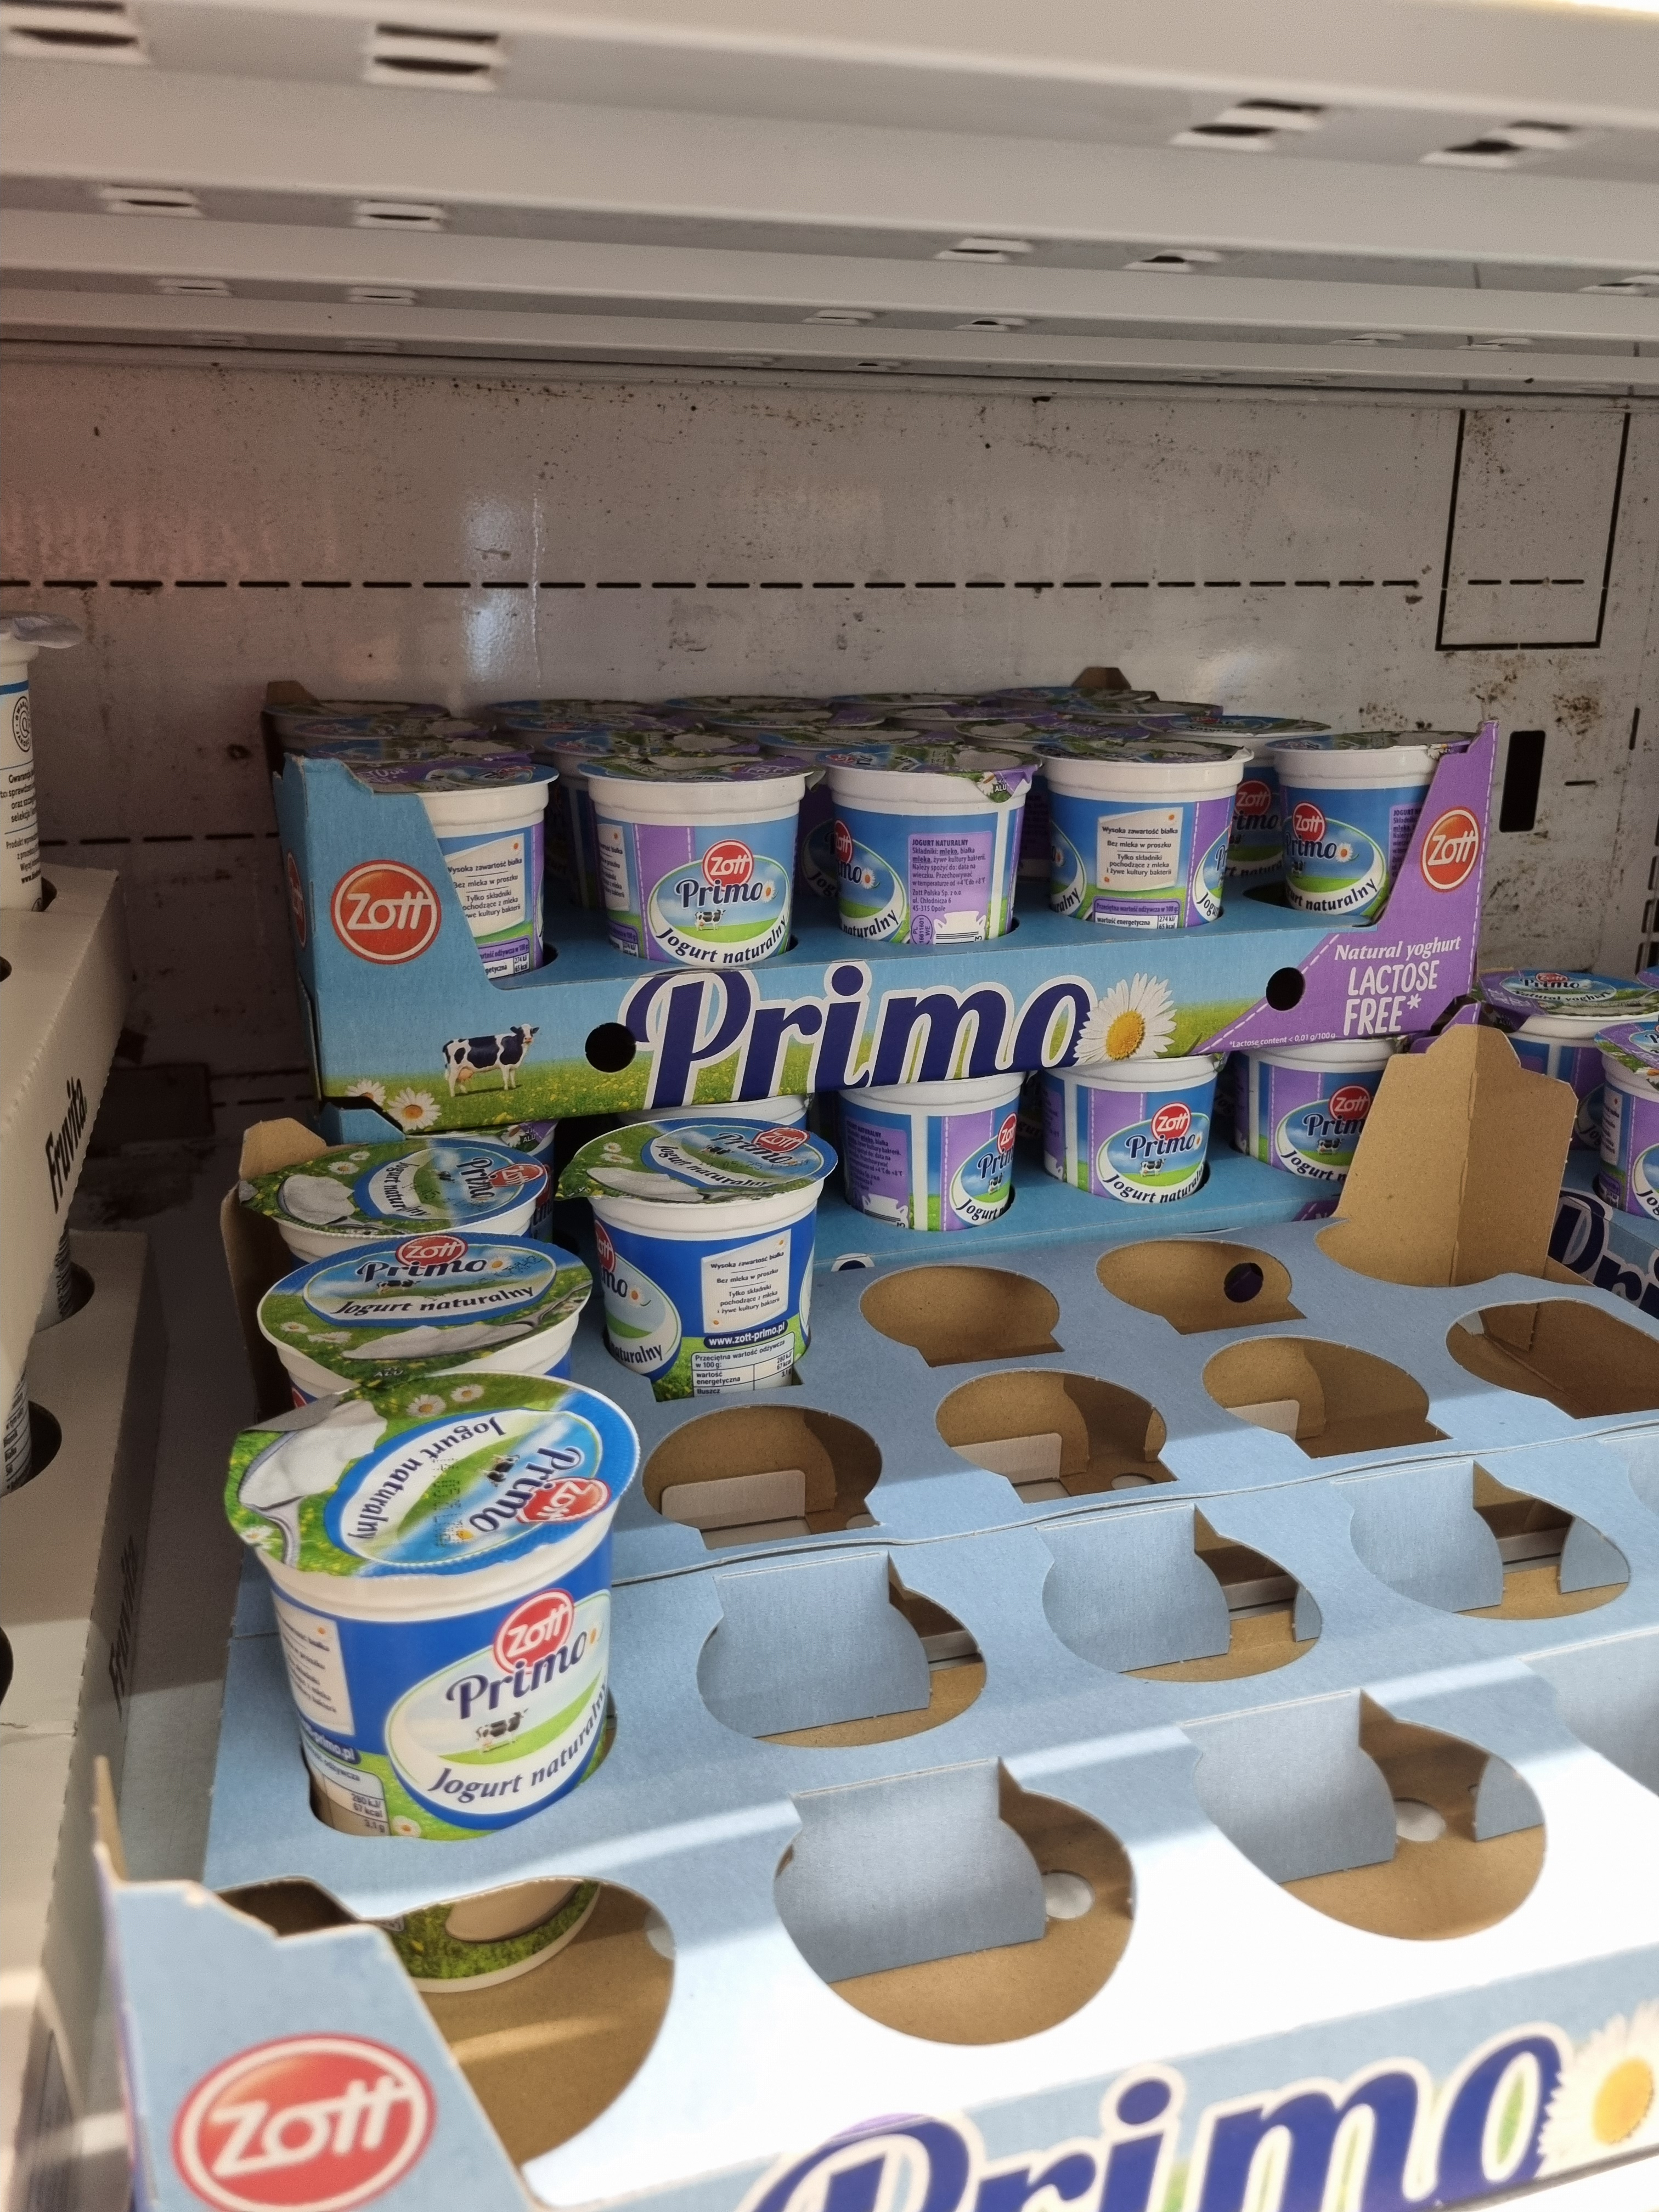Yogurt: (249, 1388, 617, 1811), (575, 1122, 842, 1402), (291, 1235, 592, 1440), (258, 1141, 547, 1301)
